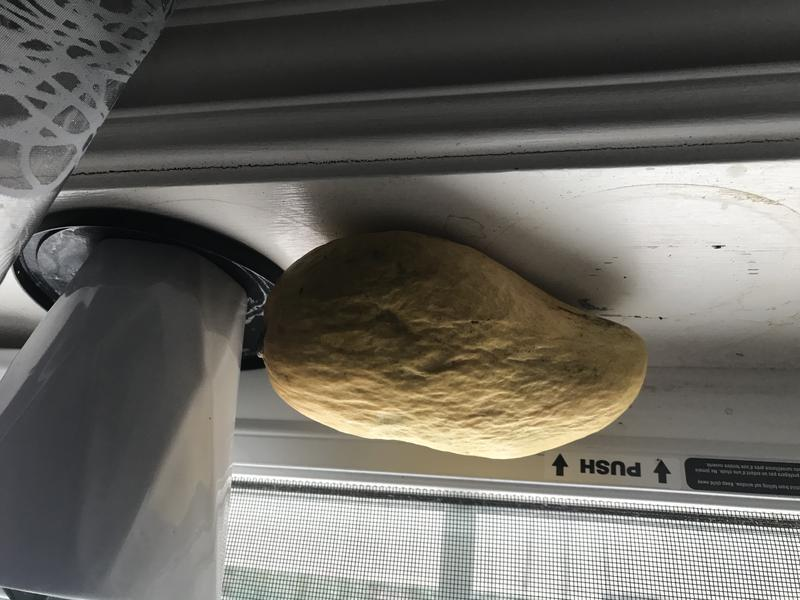mango: (256, 219, 657, 468)
